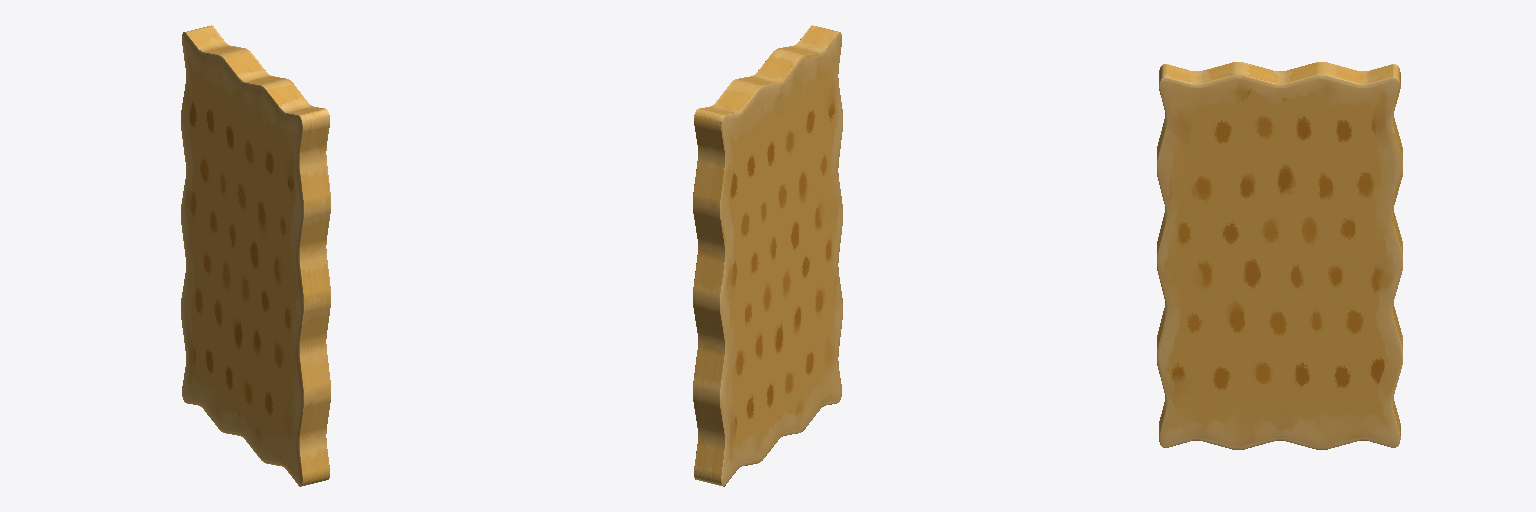
3 renders of one model, left to right at view 1: azimuth 30°, elevation 25°; view 2: azimuth 150°, elevation 25°; view 3: azimuth 270°, elevation 25°, orthographic.
Parts seen in each view (by area): view 1: Keks_Cube; view 2: Keks_Cube; view 3: Keks_Cube.
Part boxes in pixels (x1,y1,x2,y2): Keks_Cube: (181, 25, 330, 486); Keks_Cube: (693, 25, 842, 486); Keks_Cube: (1157, 62, 1402, 449).
Size of the model in its own units: 0.2 by 2.49 by 1.48.
1 materials, 1 textured.